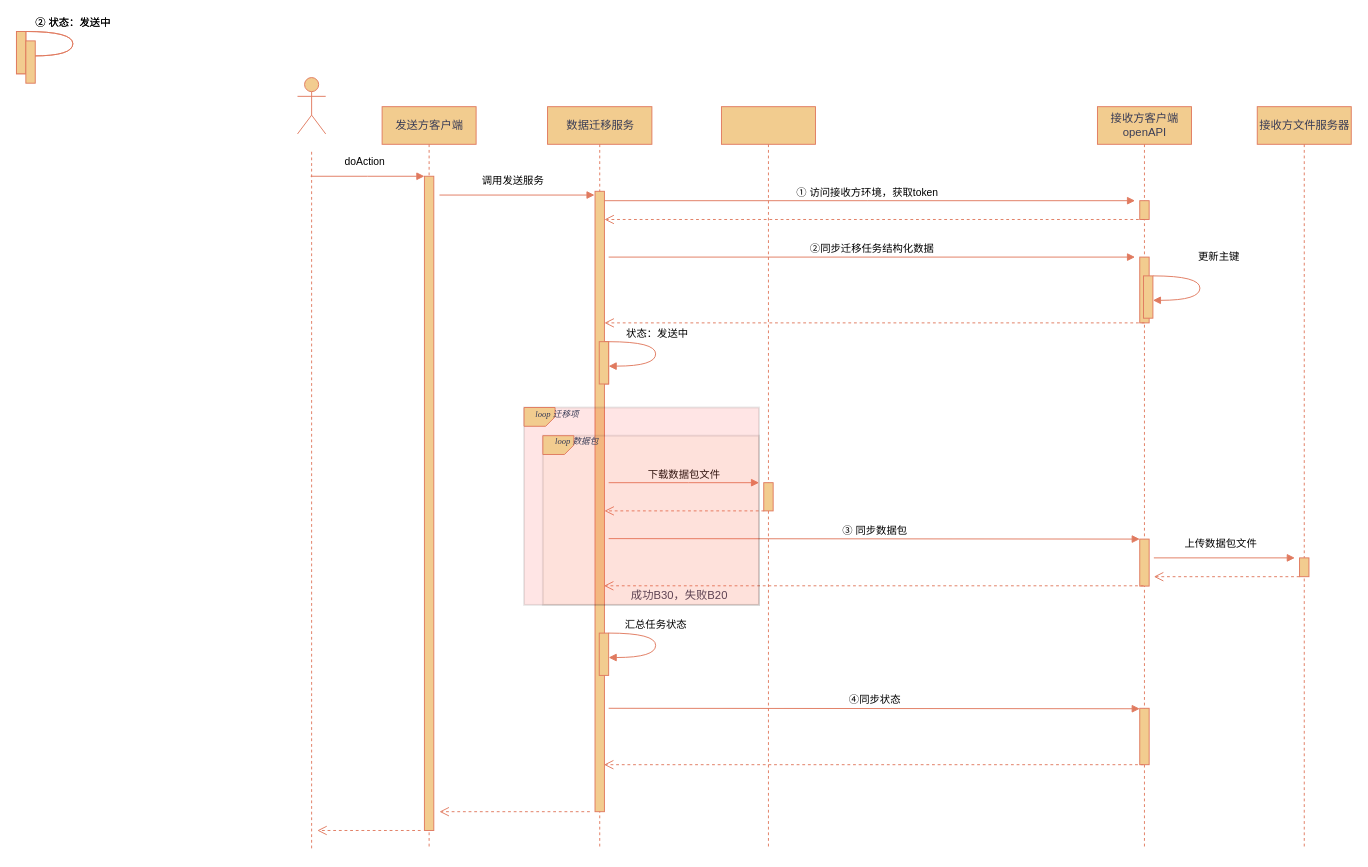
The diagram is 1368 pixels wide and 867 high, and some of its shapes have lost their labels. Here are the shapes that lost their labels. From the top down, the centre of each, then its label:
(311,105): Actor
(768,477): 发送方文件服务器
